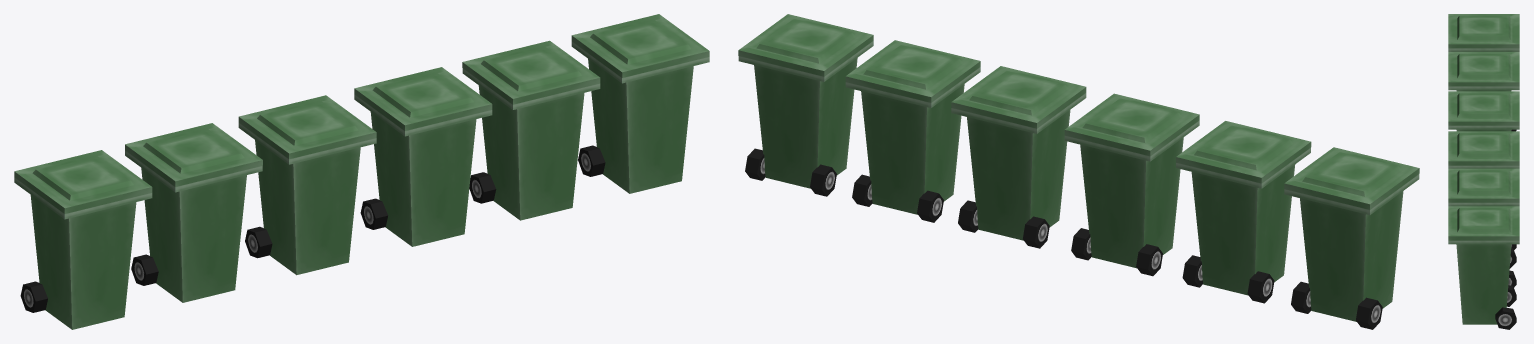
File: Green_Trash_Cans.fbx
3 renders of one model, left to right at view 1: azimuth 30°, elevation 25°; view 2: azimuth 150°, elevation 25°; view 3: azimuth 270°, elevation 25°, orthographic. The views are drawn at different scales.
Parts seen in each view (by area): view 1: Green_Trash_Cans; view 2: Green_Trash_Cans; view 3: Green_Trash_Cans.
Boxes of the visible parts, x1=… form: Green_Trash_Cans: x1=14, y1=14, x2=709, y2=329; Green_Trash_Cans: x1=738, y1=14, x2=1419, y2=329; Green_Trash_Cans: x1=1448, y1=14, x2=1519, y2=329.
Size of the model in its own units: 5.77 by 1.19 by 0.783.
